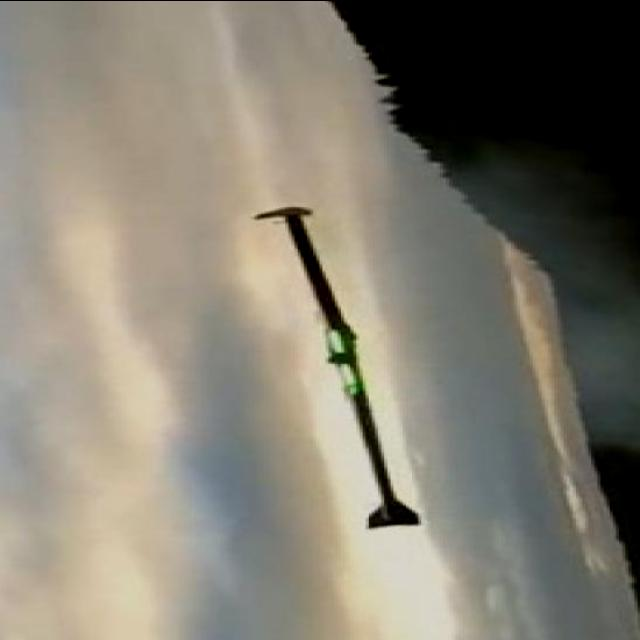plane: (250, 205, 421, 532)
